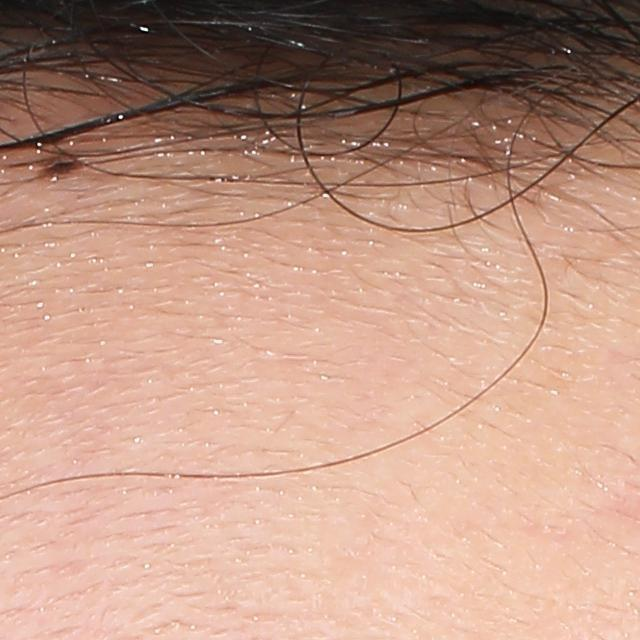nevus: (38, 143, 80, 178)
